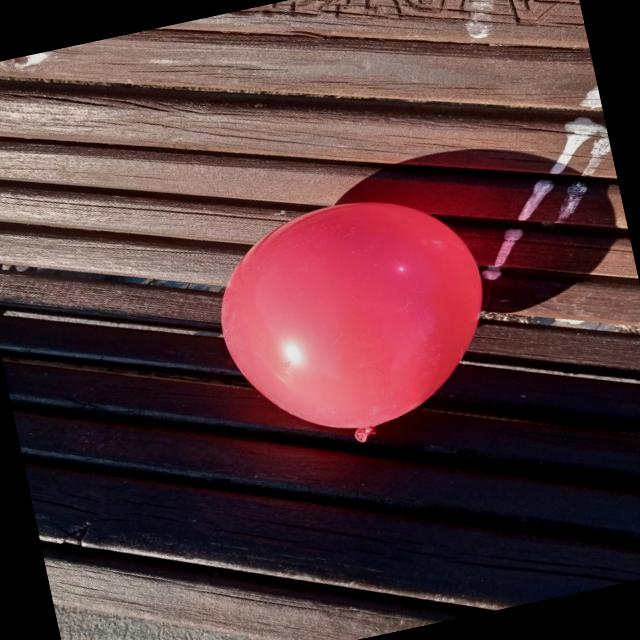balloon: (222, 200, 482, 441)
